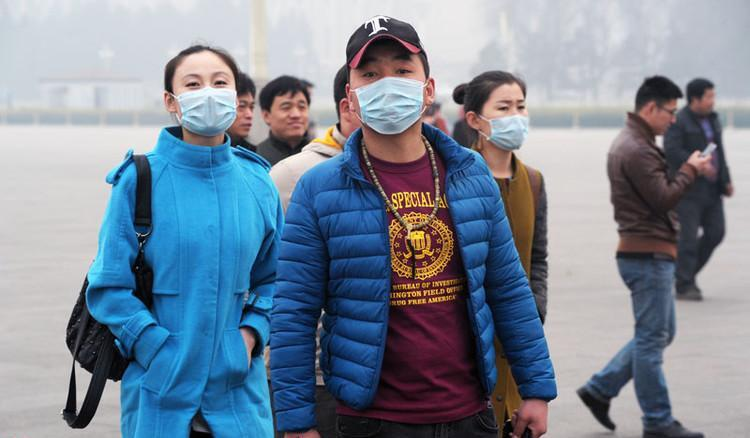NONE: (222, 93, 256, 138), (270, 100, 308, 137), (645, 101, 680, 134), (692, 90, 718, 114)
OK: (352, 50, 436, 134), (174, 69, 240, 135), (482, 96, 535, 149)
